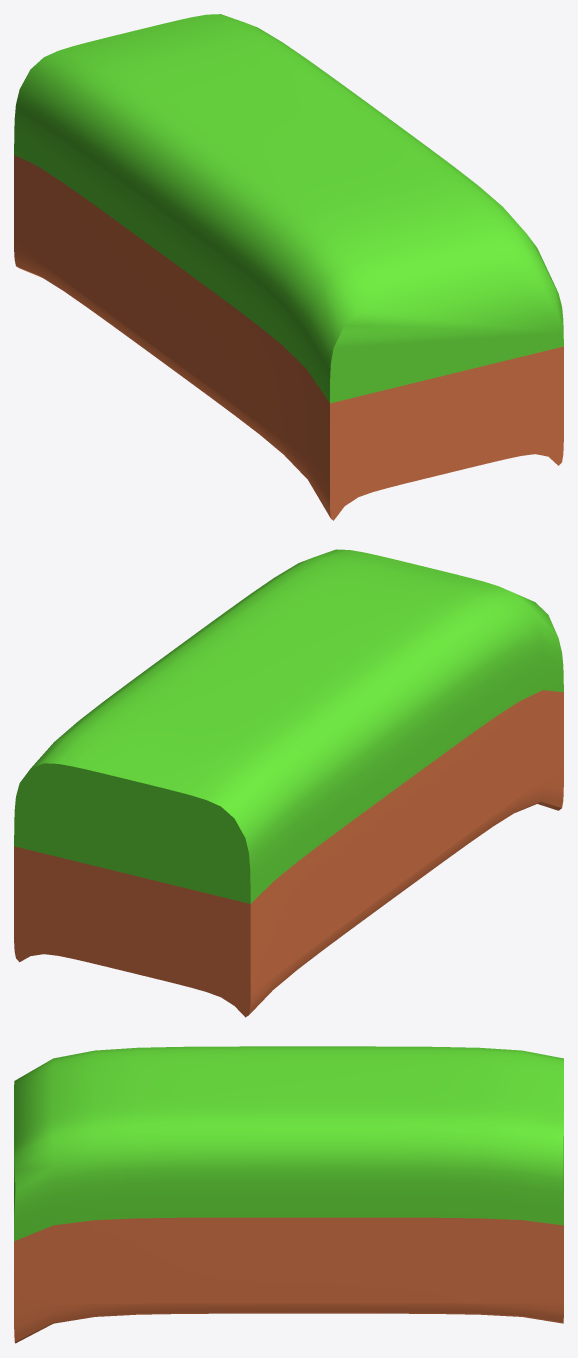
File: Dirt_Bridge.fbx
The picture shows the model from 3 angles, top to bottom: view 1: azimuth 30°, elevation 25°; view 2: azimuth 150°, elevation 25°; view 3: azimuth 270°, elevation 25°; orthographic projection. The views are drawn at different scales.
Visible parts, largest first — view 1: Cube; view 2: Cube; view 3: Cube.
Boxes of the visible parts, bbox=[...] form: Cube: bbox=[14, 14, 563, 520]; Cube: bbox=[14, 549, 563, 1017]; Cube: bbox=[14, 1046, 563, 1343].
Bounding box in the file's own units: 504 × 498 × 1154.
